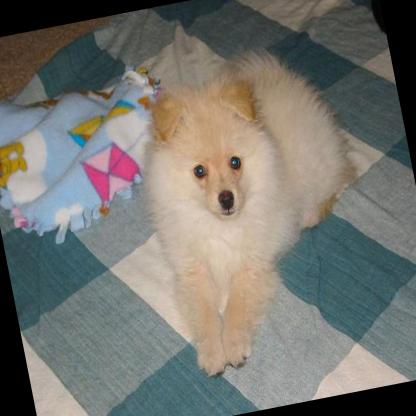Pomeranian: (115, 25, 392, 382)
